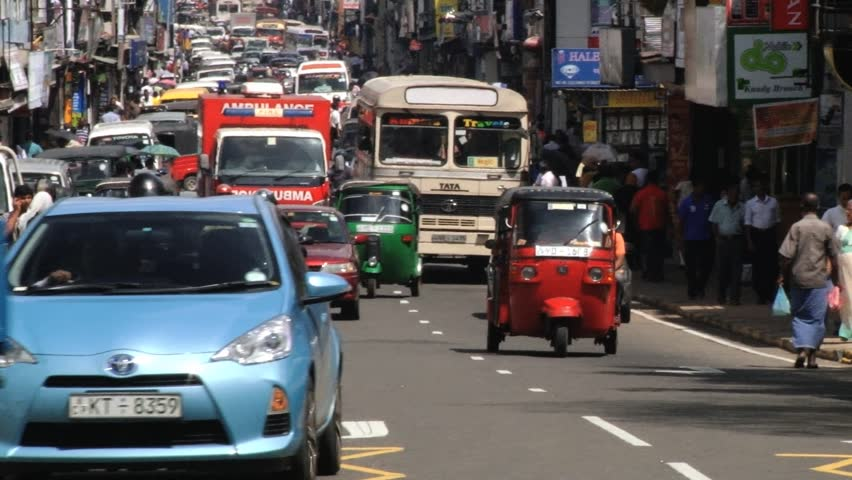tuk tuk: (485, 187, 619, 356), (360, 171, 421, 298), (167, 123, 200, 189)
